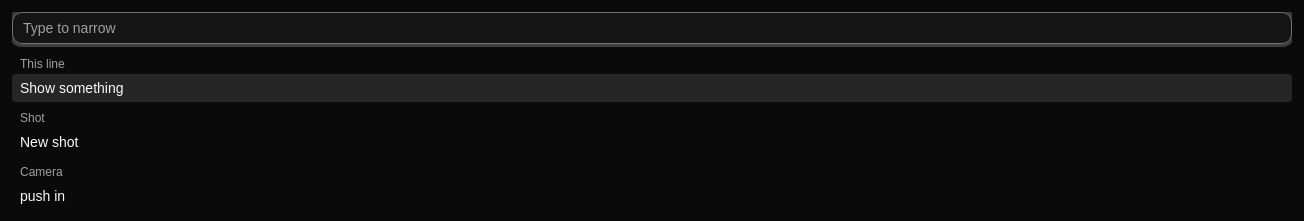
CommandMenu › says when nothing goes by that name
This screenshot has width=1304, height=221.
In the field named "What to do": x=652, y=28 [12,12,1292,44], type "zzz"
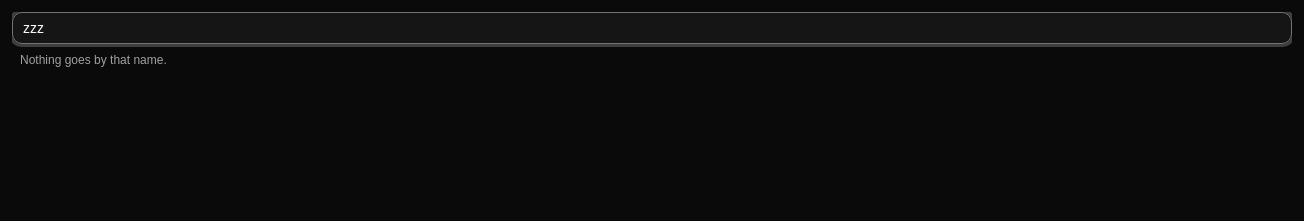
Expected: the text "Nothing goes by that name." is shown, [20,53,167,67]
